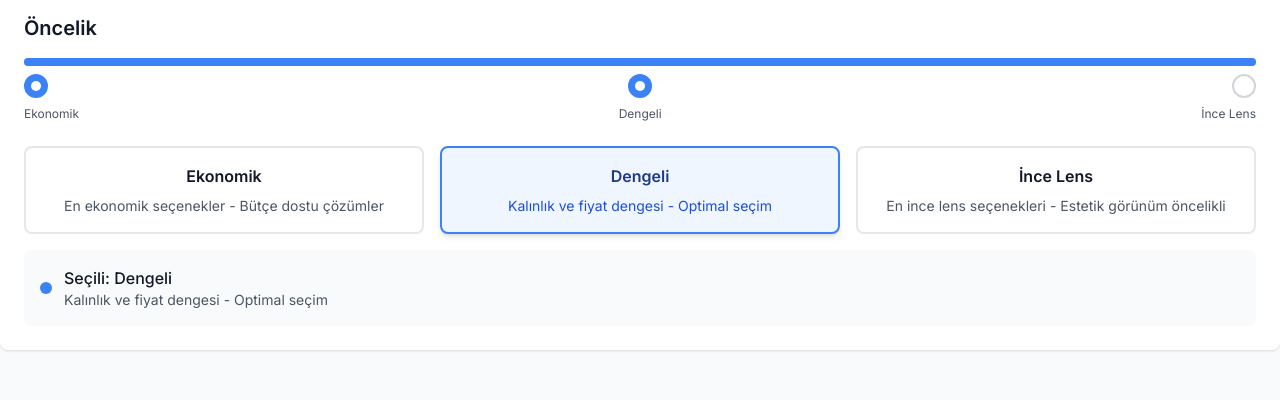
Test: PrioritySlider › Accessibility › error message has role="alert"
Click the radio button labelled "ince lens": {"x": 1056, "y": 176} x1=856 y1=146 x2=1256 y2=234
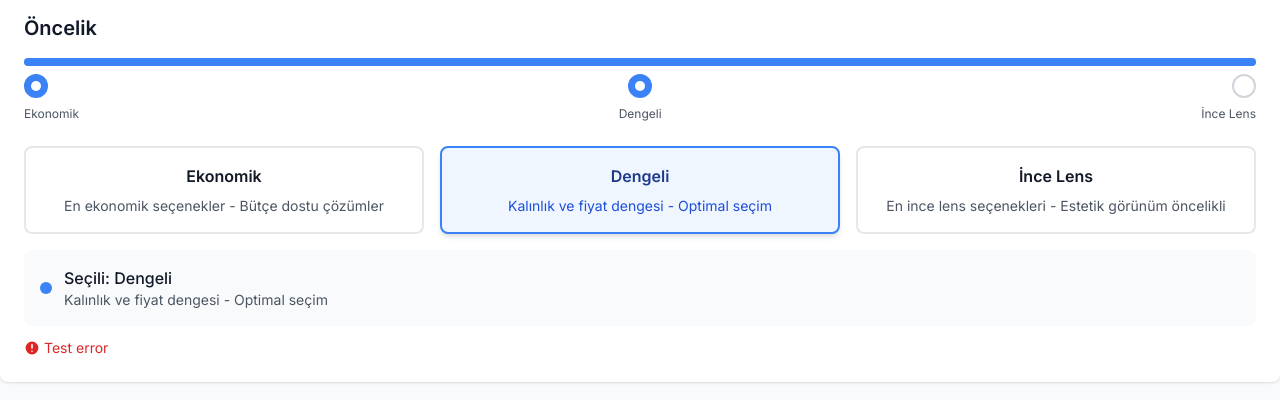
Check: the message "Test error" is shown, box x1=24 y1=339 x2=108 y2=356
